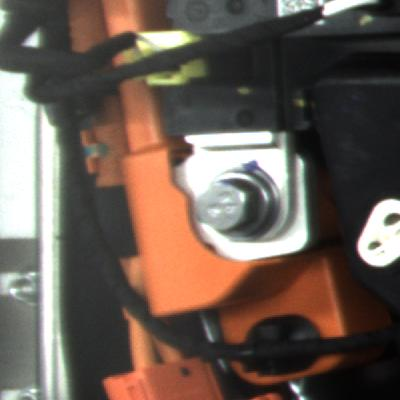nut_b: (185, 156, 290, 246)
